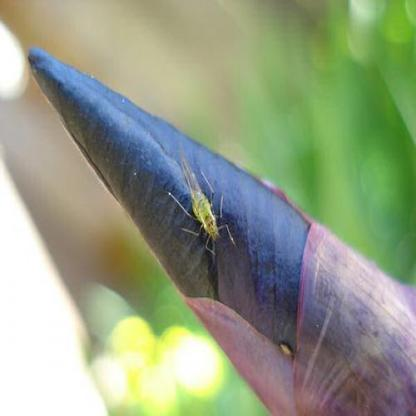aphid: (170, 158, 233, 266)
